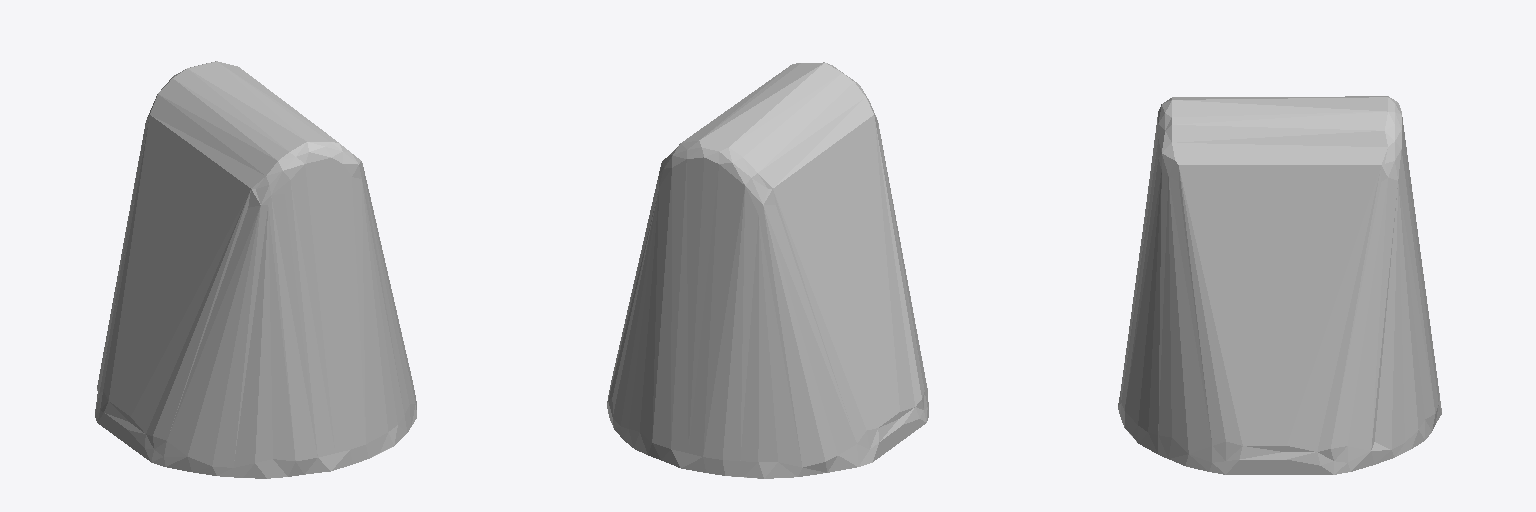
The model's file is arm_7_collision.obj.
3 renders of one model, left to right at view 1: azimuth 30°, elevation 25°; view 2: azimuth 150°, elevation 25°; view 3: azimuth 270°, elevation 25°, orthographic.
Size of the model in its own units: 0.09 by 0.101 by 0.096.